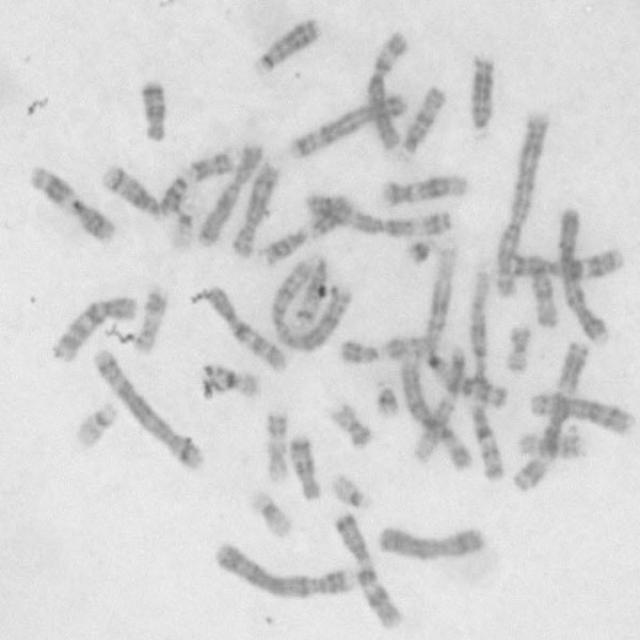A1: (421, 243, 509, 411), (467, 264, 507, 485)
A2: (491, 108, 554, 298), (270, 257, 355, 355)
A3: (510, 339, 592, 498), (304, 190, 454, 240)
B4: (212, 542, 358, 604), (557, 204, 613, 346)
B5: (92, 346, 207, 472), (287, 92, 408, 163)
C10: (205, 285, 290, 376), (51, 294, 138, 366)
C11: (28, 164, 119, 246), (257, 194, 354, 265)
C12: (410, 342, 466, 465), (381, 170, 470, 210)
C6: (398, 348, 475, 474), (364, 27, 411, 151)
C7: (334, 508, 406, 632), (510, 244, 625, 280)
C8: (229, 160, 282, 260), (528, 392, 637, 438)
C9: (161, 148, 243, 214), (337, 331, 437, 368)
D13: (253, 15, 324, 75), (464, 53, 498, 138)
D14: (100, 162, 161, 218), (291, 254, 332, 332)
D15: (400, 83, 448, 154), (528, 252, 559, 329)
E16: (198, 362, 264, 402), (516, 428, 589, 462)
E17: (132, 283, 170, 355), (259, 409, 291, 486)
E18: (288, 432, 323, 502), (136, 78, 170, 144)
F19: (246, 488, 298, 540), (170, 196, 203, 253)
F20: (328, 399, 374, 452), (504, 324, 534, 375)
G21: (370, 376, 403, 419), (404, 237, 438, 269)
G22: (75, 402, 117, 449), (331, 471, 373, 510)
X: (195, 145, 264, 250), (377, 526, 484, 563)
